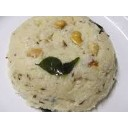venpongal: (13, 18, 116, 107)
